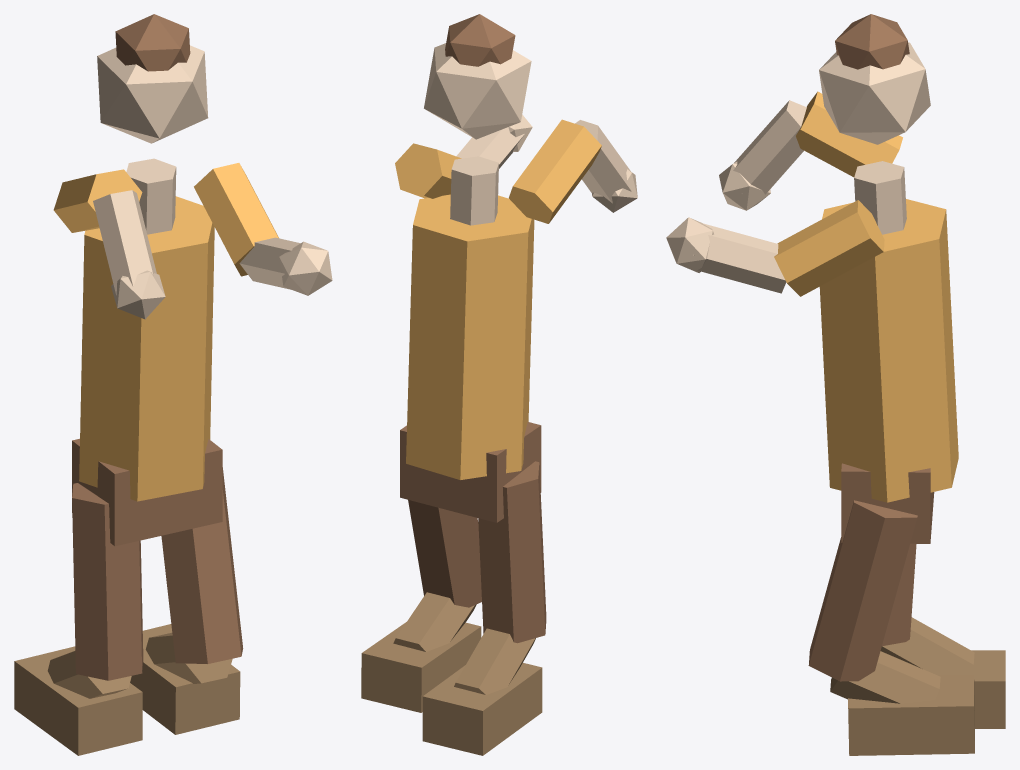
Rendered from pose_attack_1_24.glb.
3 views of the same model, side by side, from view 1: azimuth 30°, elevation 25°; view 2: azimuth 150°, elevation 25°; view 3: azimuth 270°, elevation 25° (orthographic). The views are drawn at different scales.
Parts seen in each view (by area): view 1: pose; view 2: pose; view 3: pose.
Boxes of the visible parts, left/top/right/bottom form: pose: left=14, top=14, right=332, bottom=755; pose: left=361, top=14, right=637, bottom=755; pose: left=666, top=14, right=1005, bottom=755.
Bounding box in the file's own units: 0.4224 × 1.51 × 0.6473.
